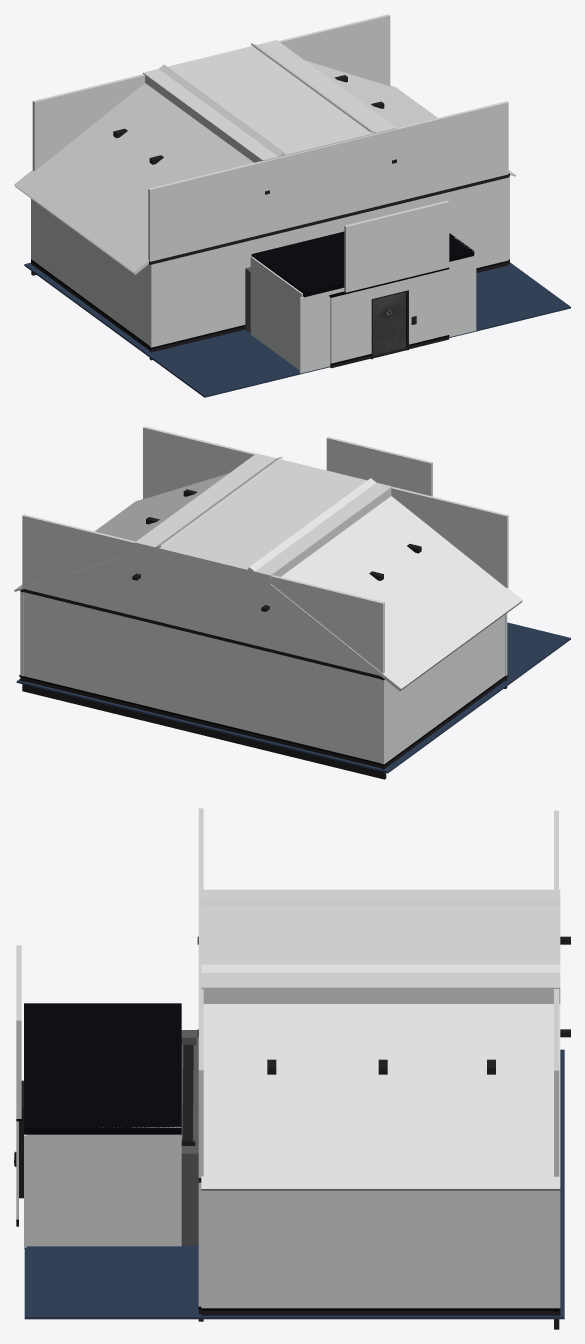
Rendered from SCP 914 Containment Chamber.obj.
3 renders of one model, top to bottom at view 1: azimuth 30°, elevation 25°; view 2: azimuth 150°, elevation 25°; view 3: azimuth 270°, elevation 25°, orthographic. The views are drawn at different scales.
Visible parts, largest first — view 1: Part2, Part40, Part41, Part20, Part104, Part118, Part17, Part106, Part5, Part3, Part9, Part75 (+7 smaller); view 2: Part102, Part104, Part40, Part41, Part2, Part17, Part20, Part100, Part106, Part75, Part103, Part99 (+1 smaller); view 3: Part75, Part167, Part41, Part3, Part14, Part20, Part40, Part165, Part2, Part104, Part146, Part136 (+2 smaller).
Boxes of the visible parts, bbox=[...] form: Part2: bbox=[148, 101, 508, 261]; Part40: bbox=[14, 64, 285, 274]; Part41: bbox=[143, 40, 396, 162]; Part20: bbox=[24, 262, 570, 397]; Part104: bbox=[32, 14, 390, 171]; Part118: bbox=[149, 242, 245, 347]; Part17: bbox=[31, 199, 149, 345]; Part106: bbox=[344, 200, 449, 292]; Part5: bbox=[414, 177, 508, 268]; Part3: bbox=[251, 231, 474, 297]; Part9: bbox=[250, 256, 302, 369]; Part75: bbox=[251, 43, 515, 176]; Part102: bbox=[23, 592, 380, 763]; Part104: bbox=[22, 514, 384, 675]; Part40: bbox=[248, 478, 522, 691]; Part41: bbox=[135, 453, 392, 586]; Part2: bbox=[143, 426, 508, 587]; Part17: bbox=[381, 615, 504, 764]; Part20: bbox=[16, 622, 570, 773]; Part100: bbox=[22, 678, 386, 779]; Part106: bbox=[326, 437, 432, 496]; Part75: bbox=[14, 457, 282, 591]; Part103: bbox=[23, 589, 380, 679]; Part99: bbox=[19, 675, 380, 764]; Part75: bbox=[201, 964, 560, 1190]; Part167: bbox=[201, 1190, 560, 1308]; Part41: bbox=[201, 889, 560, 1003]; Part3: bbox=[24, 1003, 181, 1134]; Part14: bbox=[26, 1126, 181, 1246]; Part20: bbox=[24, 1049, 564, 1319]; Part40: bbox=[201, 900, 560, 905]; Part165: bbox=[201, 1310, 560, 1315]; Part2: bbox=[198, 808, 203, 1177]; Part104: bbox=[554, 810, 559, 1176]; Part146: bbox=[181, 1151, 195, 1245]; Part136: bbox=[182, 1044, 193, 1142].
Size of the model in its own units: 51.12 by 22.68 by 43.12.
25 materials, 12 textured.
